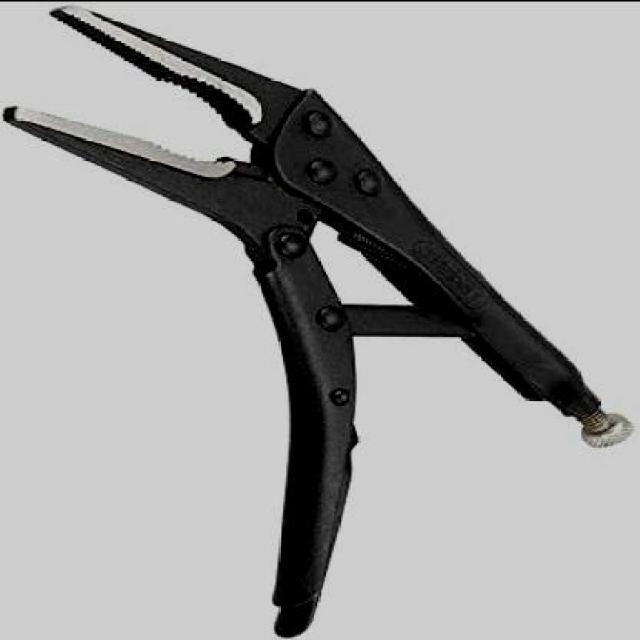pliers: (8, 6, 628, 634)
